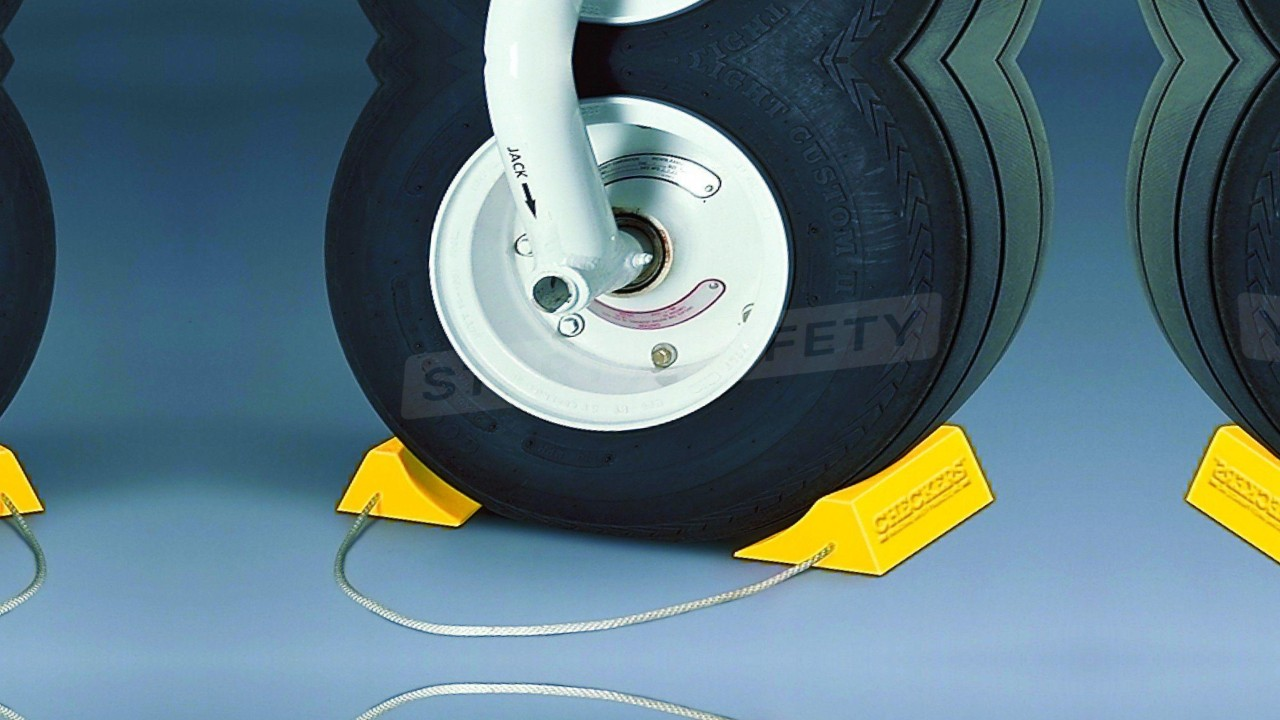chock: (710, 416, 1025, 595), (1155, 416, 1280, 595), (321, 422, 503, 542), (0, 422, 59, 542)
wheel: (228, 60, 1090, 591), (1090, 60, 1280, 591), (0, 60, 152, 591), (228, 0, 1090, 60)
